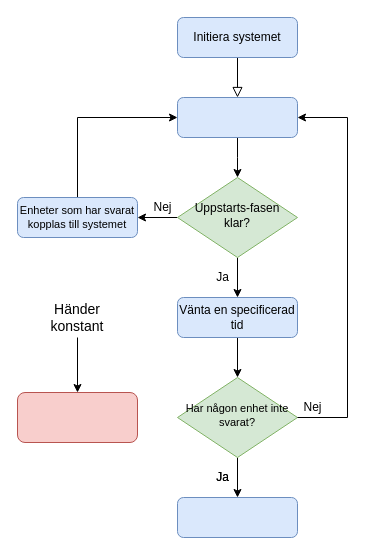
The diagram is 373 pixels wide and 555 high, and some of its shapes have lost their labels. Each missing label, with the centre of its shape:
Larma: the point at 237,517
Skicka ett ping-meddelande till alla enheter: the point at 237,117
Ta emot information från användaren och genom CAN: the point at 77,417
